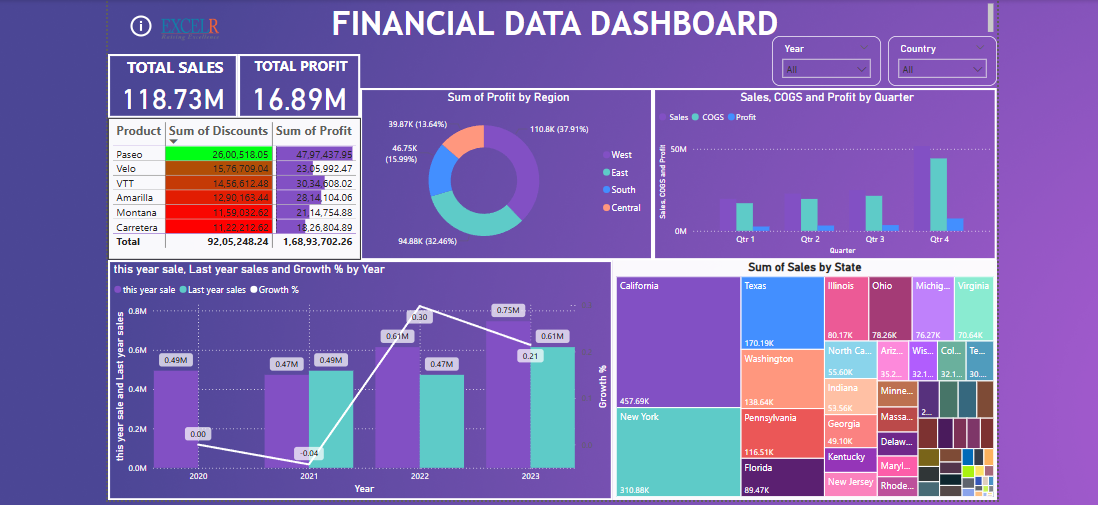

What the dashboard file says about the page in this screenshot:
{"tool":"powerbi","page":{"name":"Financial Data Dashboard","canvas":[1280,720],"ordinal":8},"visuals":[{"type":"textbox","box":[0,0,1280.2,57.6],"z":0},{"type":"donutChart","fields":{"Category":["Orders.Region"],"Y":["Sum(Orders.Profit)"]},"box":[362.9,126.7,421.9,247.7],"z":1000},{"type":"clusteredColumnChart","fields":{"Y":["Sum(financials. Sales)","Sum(financials.COGS)","Sum(financials.Profit)"],"Category":["financials.Date.Variation.Date Hierarchy.Year","financials.Date.Variation.Date Hierarchy.Quarter","financials.Date.Variation.Date Hierarchy.Month"]},"box":[784.8,126.7,495.4,247.7],"z":2000},{"type":"treemap","title":"Sum of Sales by State","fields":{"Group":["Orders.location.State/Province","Orders.location.Region","Orders.location.City","Orders.location.Postal Code"],"Values":["Sum(Orders.Sales)"]},"box":[727.2,374.4,553,345.6],"z":3000},{"type":"lineClusteredColumnComboChart","fields":{"Category":["Orders.Order Date.Variation.Date Hierarchy.Year"],"Y":["Orders.this year sale","Orders.Last year sales"],"Y2":["Orders.Growth %"]},"box":[0,374.4,727.2,345.6],"z":4000},{"type":"card","title":"TOTAL SALES","fields":{"Values":["Sum(financials. Sales)"]},"box":[0,77.8,187.2,92.2],"z":5000},{"type":"card","title":"TOTAL PROFIT","fields":{"Values":["Sum(financials.Profit)"]},"box":[187.2,77.8,175.7,92.2],"z":6000},{"type":"slicer","fields":{"Values":["financials.Country"]},"box":[1123,51.8,157,72],"z":7000},{"type":"slicer","fields":{"Values":["financials.Year"]},"box":[956.2,51.8,157,72],"z":8000},{"type":"tableEx","fields":{"Values":["financials.Product","Sum(financials.Discounts)","Sum(financials.Profit)"]},"box":[0,169.9,364.3,204.5],"z":9000},{"type":"actionButton","box":[27.4,17.3,83.5,40.3],"z":10000},{"type":"image","box":[69.1,0,97.9,77.8],"z":11000}]}

Visuals, with their boxes in screenshot pixels (x1, y1, x2, y2):
textbox: 106,0,993,37
donutChart - Orders.Region x Sum(Orders.Profit): 357,85,650,257
clusteredColumnChart - Sum(financials. Sales) x Sum(financials.COGS): 650,85,993,257
"Sum of Sales by State" treemap: 610,257,993,496
lineClusteredColumnComboChart - Orders.Order Date.Variation.Date Hierarchy.Year x Orders.this year sale: 106,257,610,496
"TOTAL SALES" card: 106,51,236,115
"TOTAL PROFIT" card: 236,51,357,115
slicer - financials.Country: 884,33,993,83
slicer - financials.Year: 769,33,877,83
tableEx - financials.Product x Sum(financials.Discounts): 106,115,358,257
actionButton: 125,9,183,37
image: 154,0,222,51
